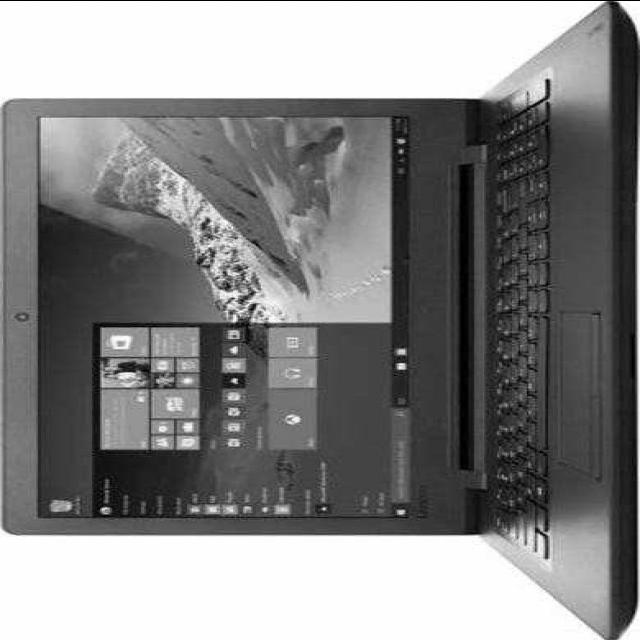laptop: (6, 18, 640, 572)
